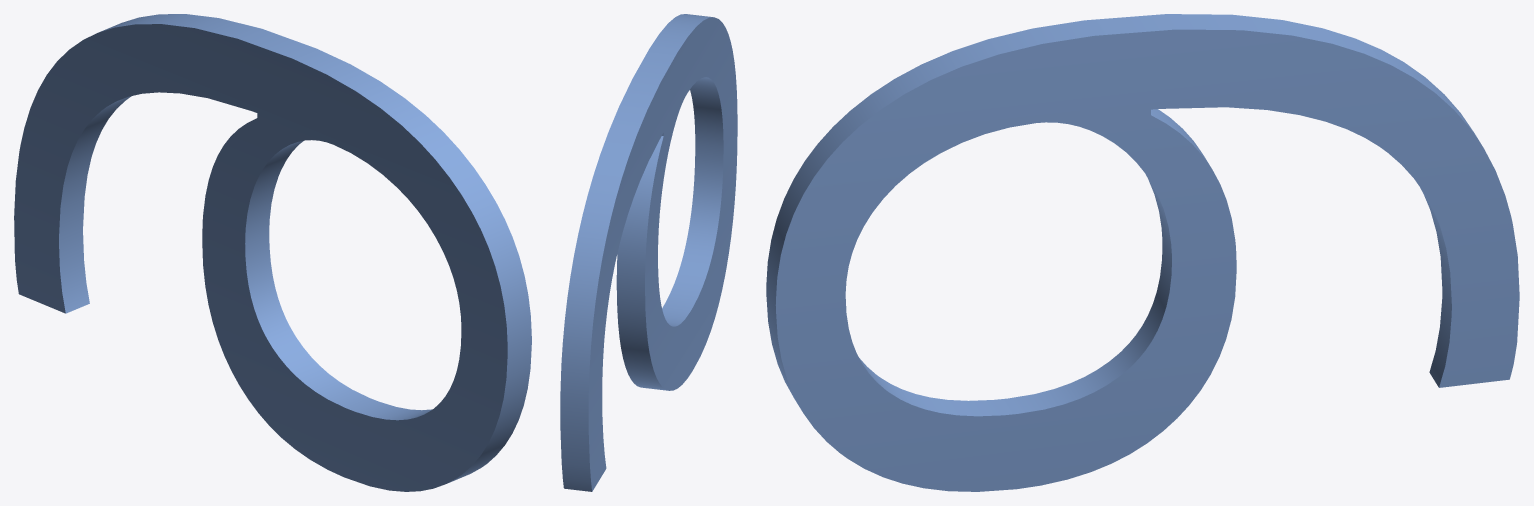
Rendered from Number_6.gltf.
The picture shows the model from 3 angles, left to right: view 1: azimuth 30°, elevation 25°; view 2: azimuth 150°, elevation 25°; view 3: azimuth 270°, elevation 25°; orthographic projection. The views are drawn at different scales.
Visible parts, largest first — view 1: Sub_7_Cell_2_2_Number_6; view 2: Sub_7_Cell_2_2_Number_6; view 3: Sub_7_Cell_2_2_Number_6.
Part boxes in pixels (<box>): Sub_7_Cell_2_2_Number_6: <box>14,14,531,491</box>; Sub_7_Cell_2_2_Number_6: <box>560,14,737,491</box>; Sub_7_Cell_2_2_Number_6: <box>766,14,1519,491</box>.
Bounding box in the file's own units: 0.0082 × 0.0164 × 0.0253.
